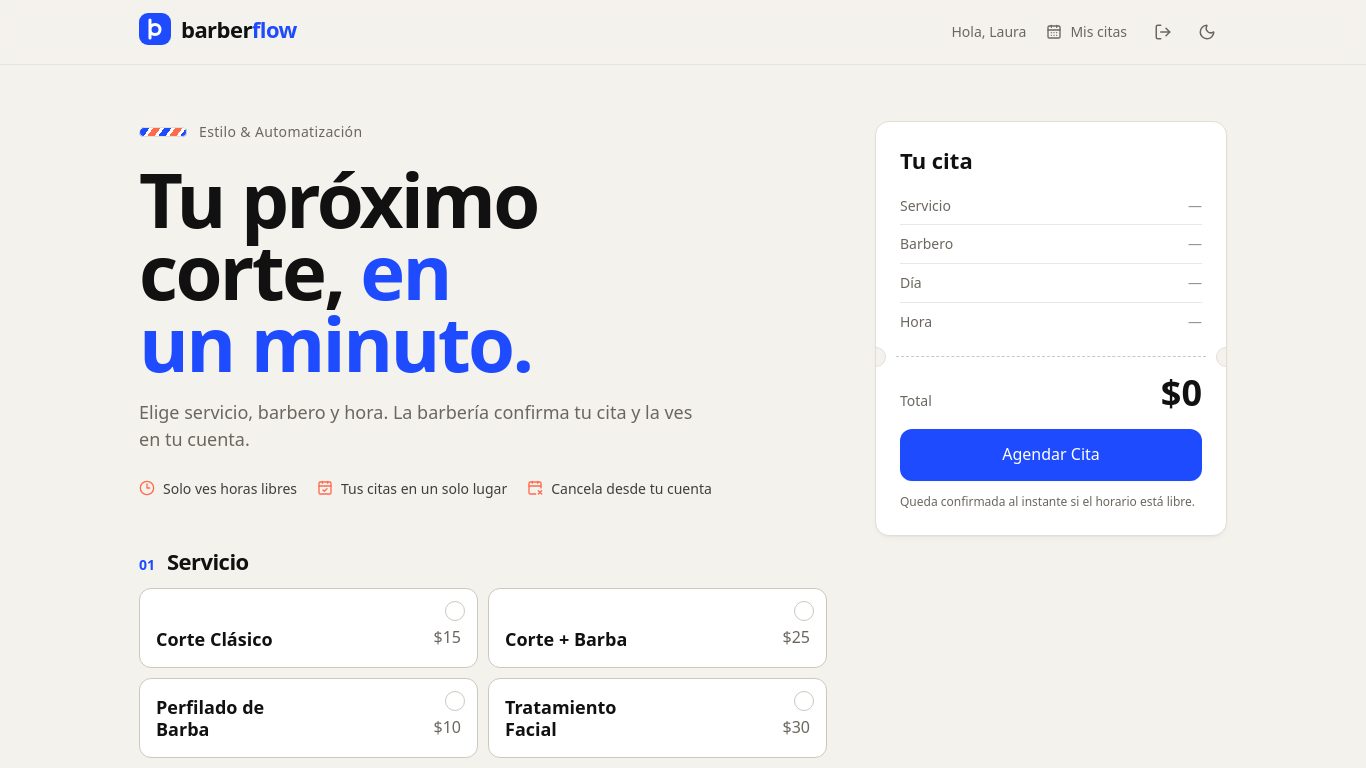
Test case: reserva con sesión › con el correo sin verificar pide verificar antes de crear la cita
Click the radio button labelled "Corte + Barba $25".
click(566, 639)  # box [488,588,827,668]
(page scrolled)
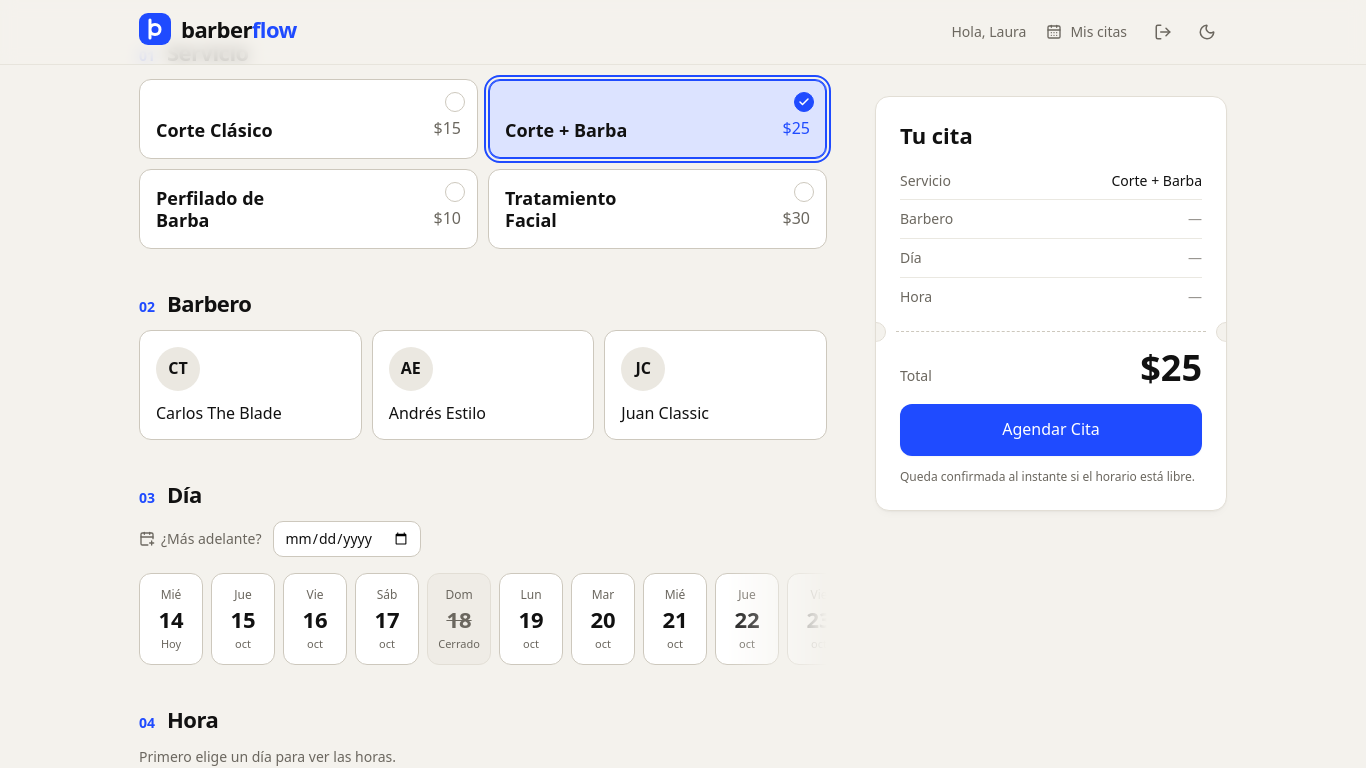
Click the radio button labelled "Andrés Estilo".
click(483, 385)  # box [372,330,594,440]
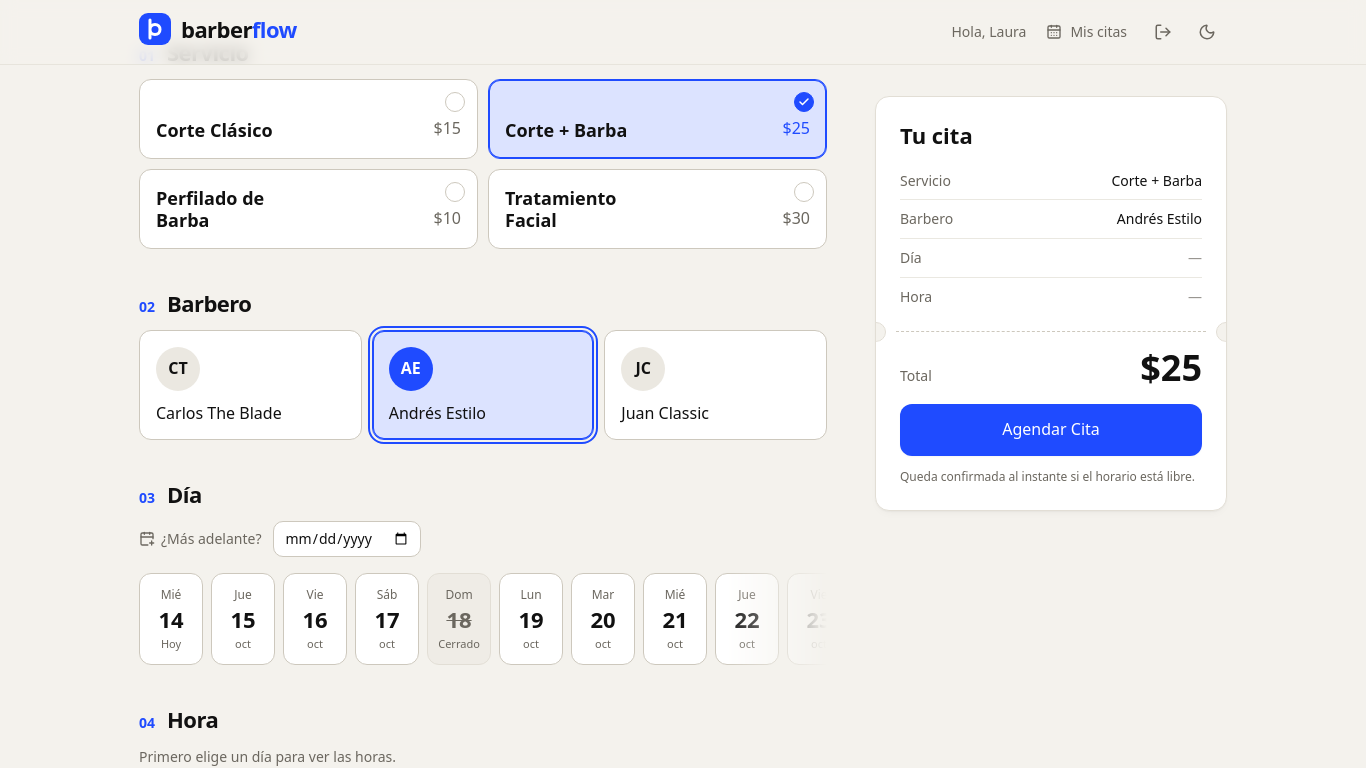
Click the radio button with aria-label "jueves 15 de octubre".
click(243, 619)  # box [211,572,275,665]
(page scrolled)
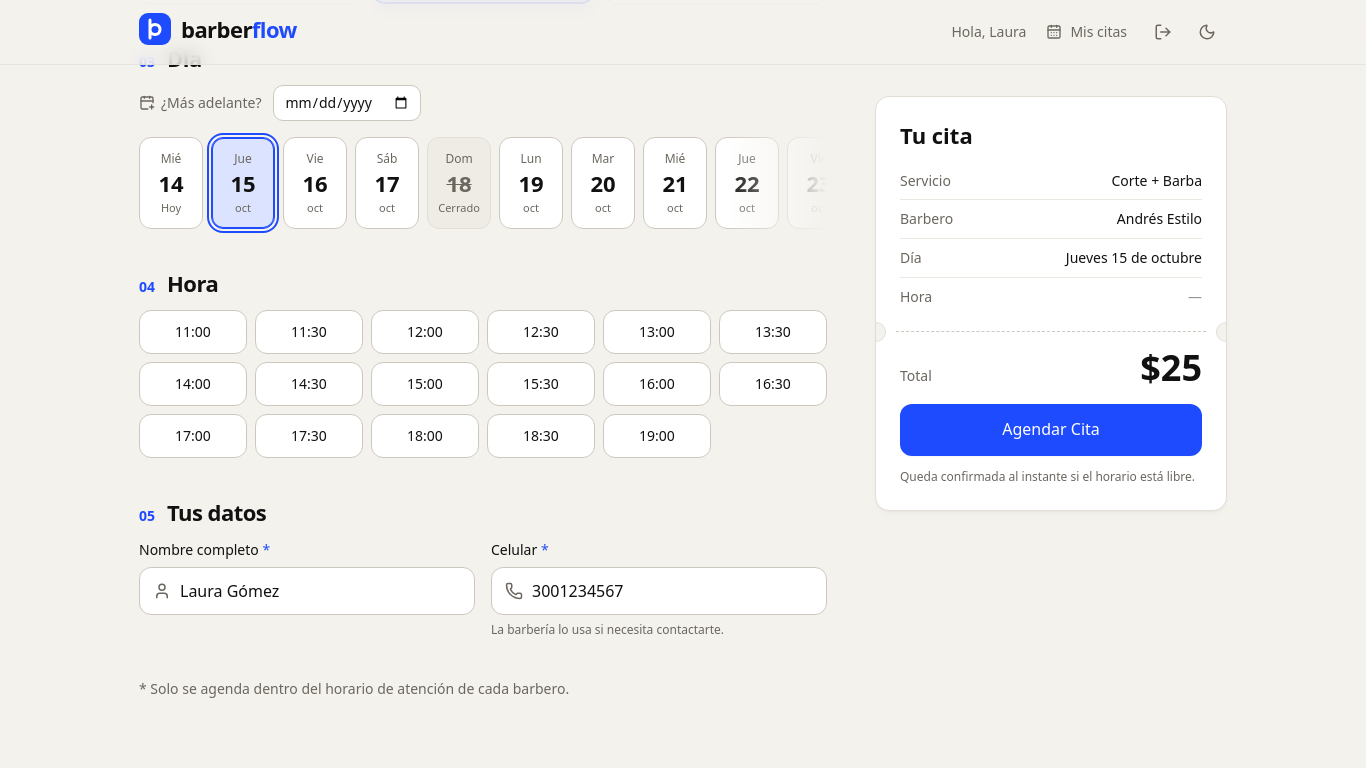
Click the radio button labelled "16:30".
click(773, 384)  # box [719,362,827,406]
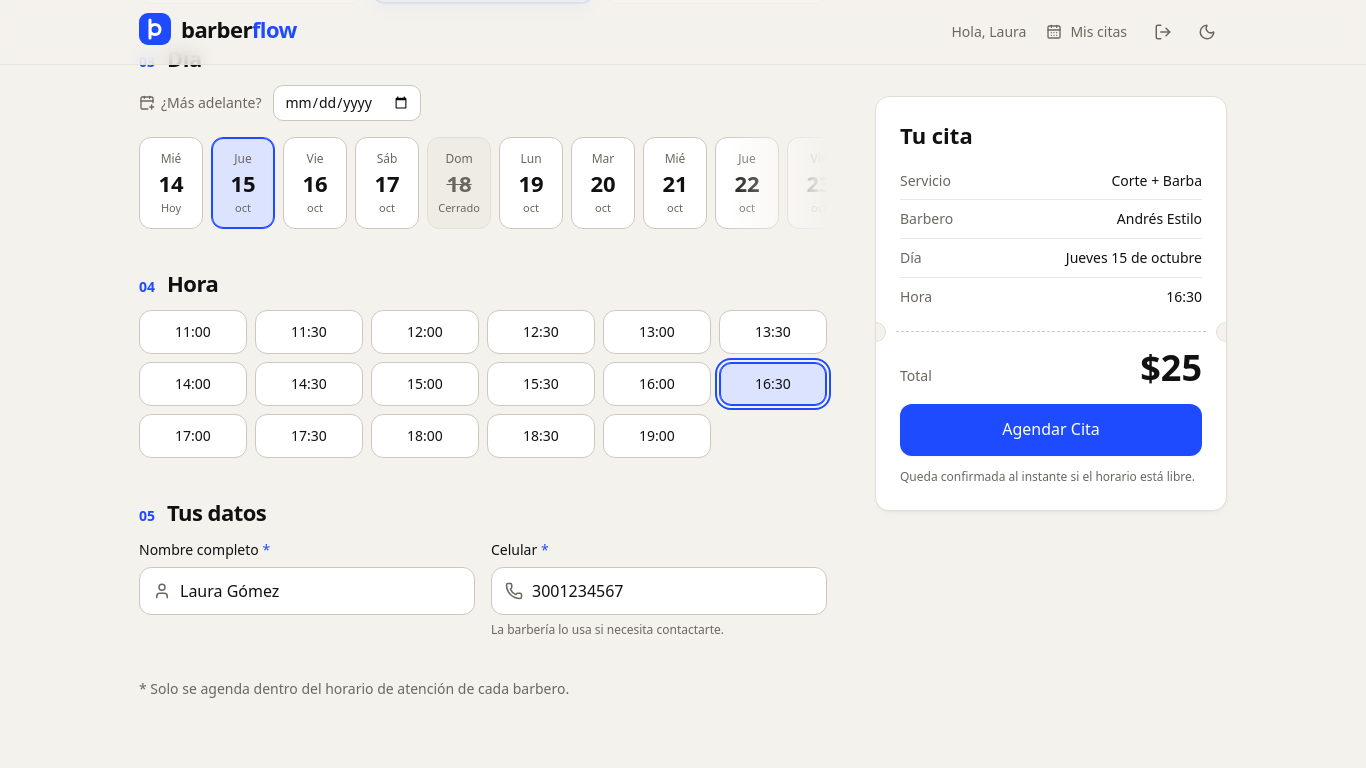
Click the button "Agendar Cita".
click(1051, 430)  # box [900,404,1202,456]
(page scrolled)
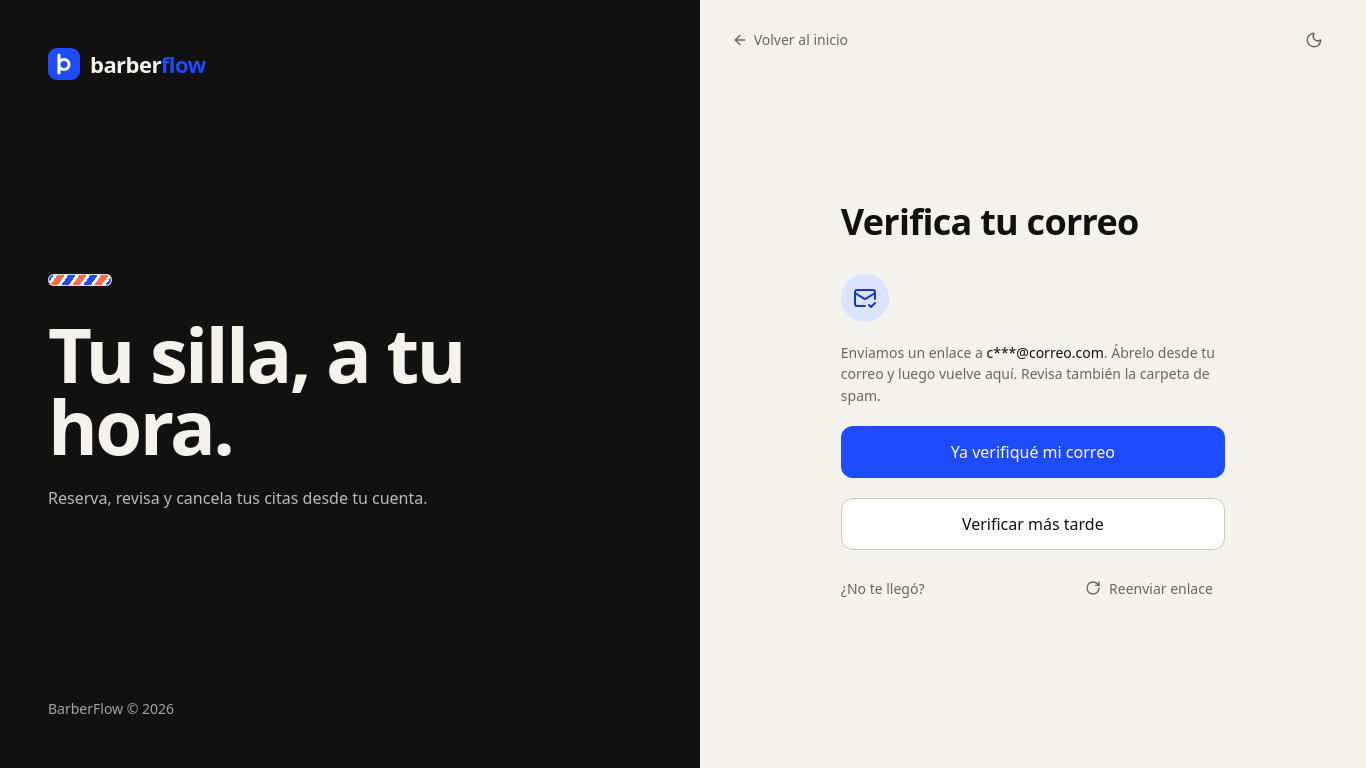
Now the heading "Verifica tu correo" is shown, box [841,197,1139,246]
